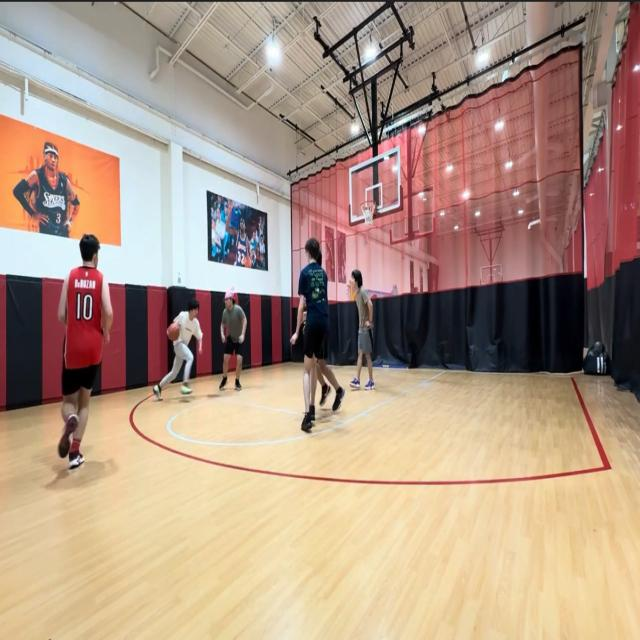Basketball: (168, 322, 180, 342)
Basketball Rim: (360, 200, 376, 223)
